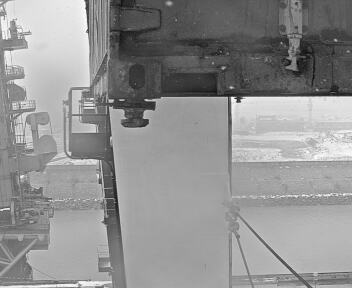twist_lock_1: (107, 95, 161, 134)
